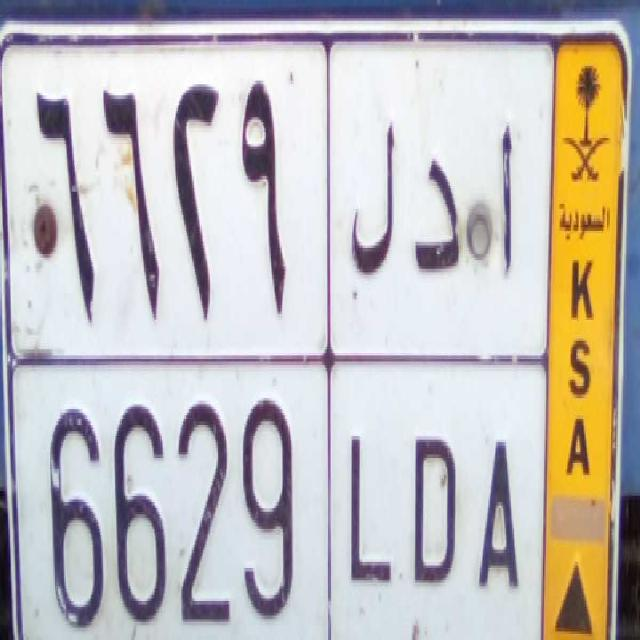license_plate: (8, 358, 545, 640)
